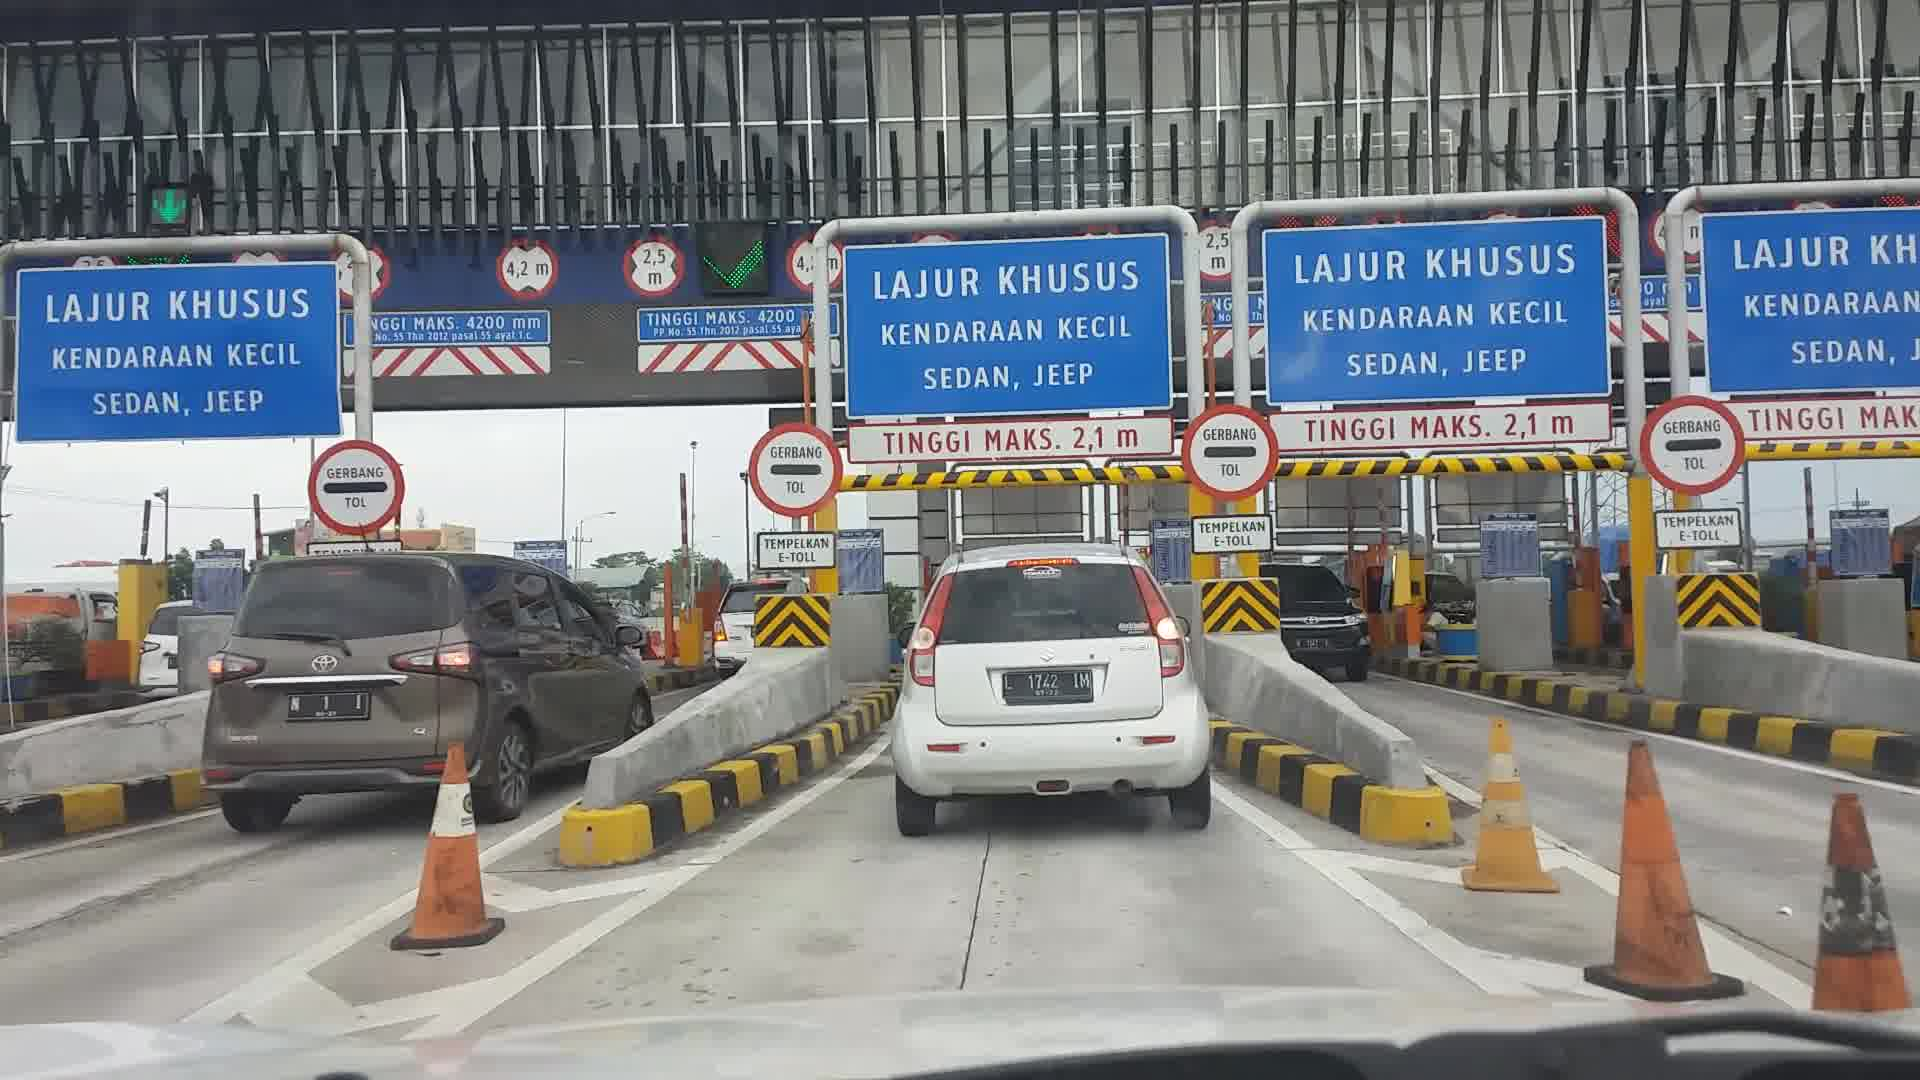plate_positive: (1002, 671, 1095, 704), (287, 692, 369, 719)
